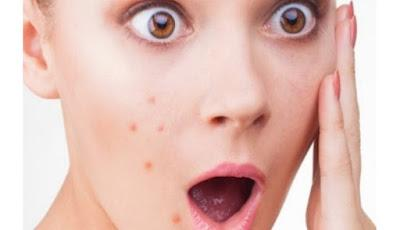Acne: (127, 94, 183, 225)
